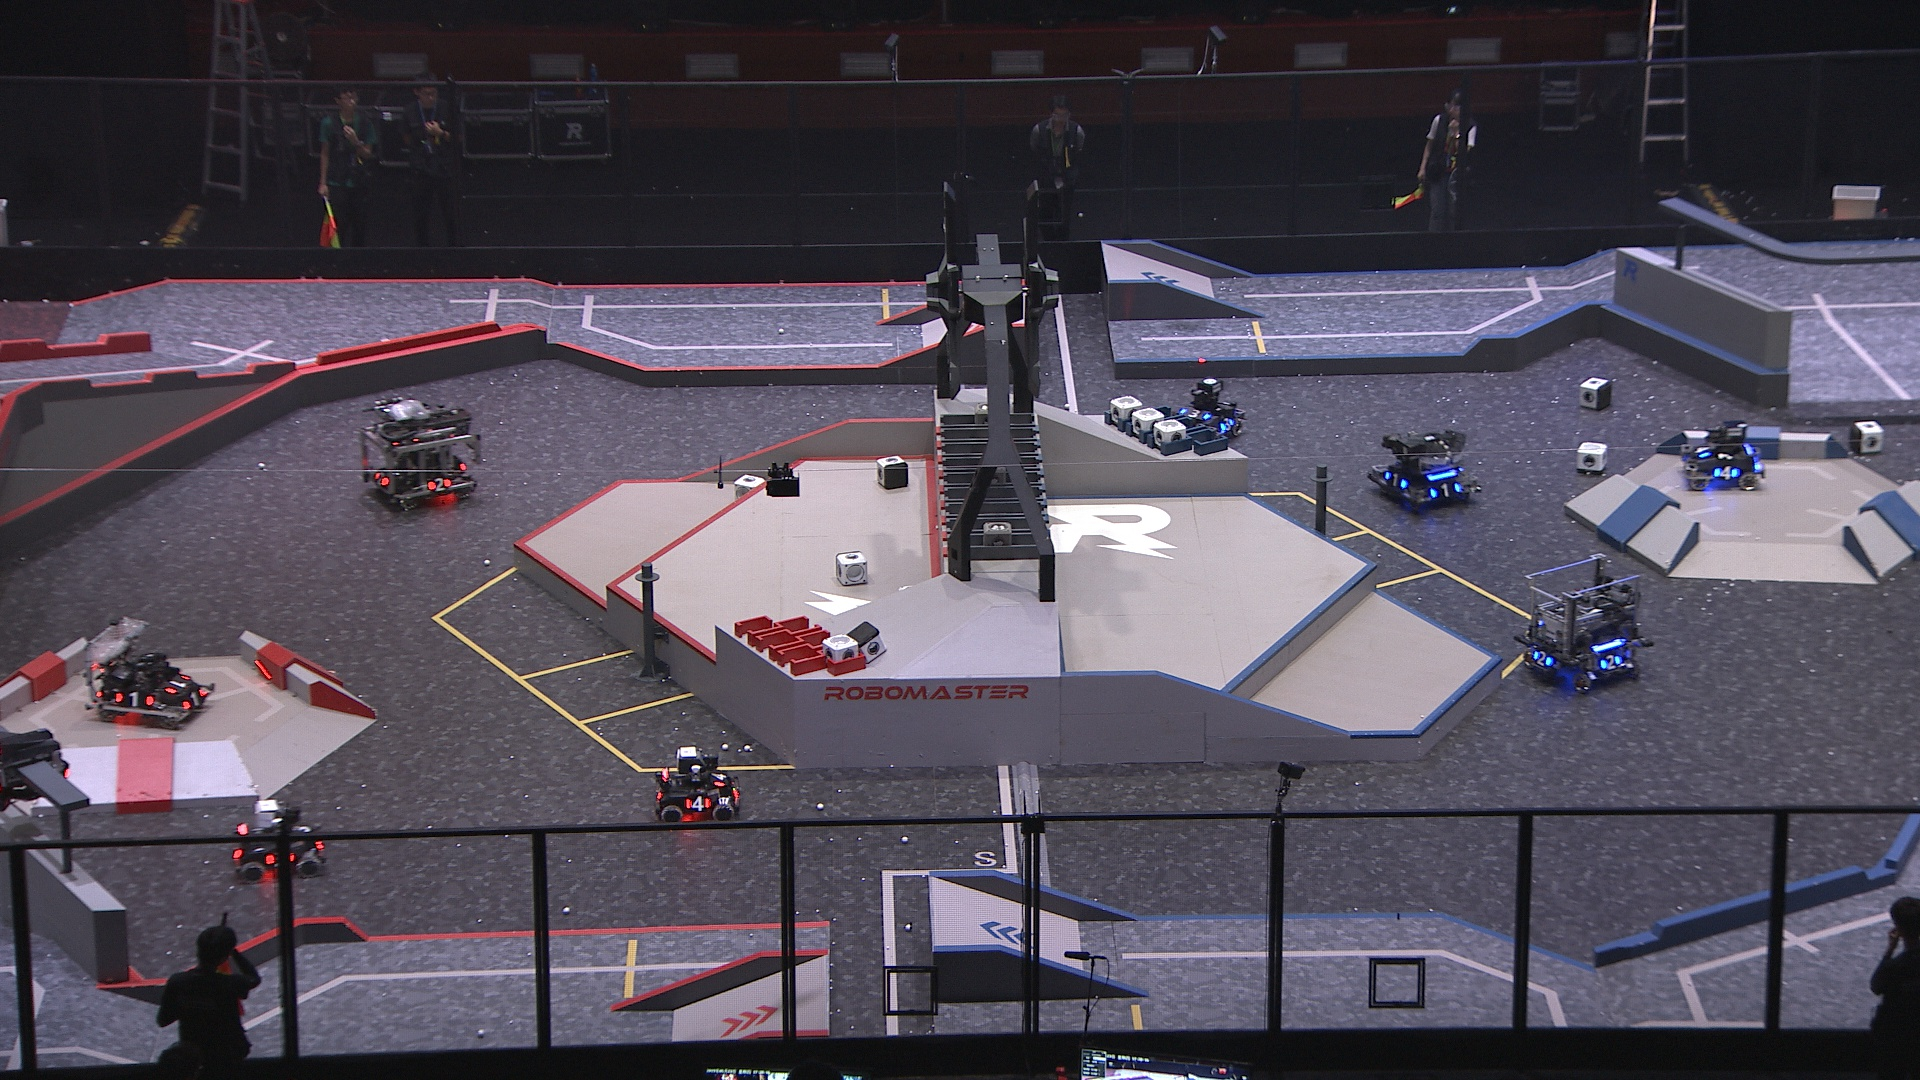armor: (112, 690, 154, 711), (183, 687, 210, 713), (164, 673, 193, 694), (1382, 469, 1410, 491), (1429, 481, 1462, 498), (684, 794, 713, 812), (1600, 651, 1625, 673), (1182, 406, 1215, 422), (427, 476, 455, 495), (1531, 647, 1555, 669), (1712, 465, 1741, 481), (373, 469, 392, 489), (711, 769, 728, 790), (294, 822, 314, 839), (1693, 443, 1712, 460), (1220, 417, 1236, 434)
car: (1513, 555, 1659, 699), (80, 618, 218, 728), (357, 396, 483, 510), (1366, 429, 1484, 516), (233, 796, 324, 882), (651, 746, 744, 825), (1683, 422, 1768, 493), (1167, 378, 1247, 447)
